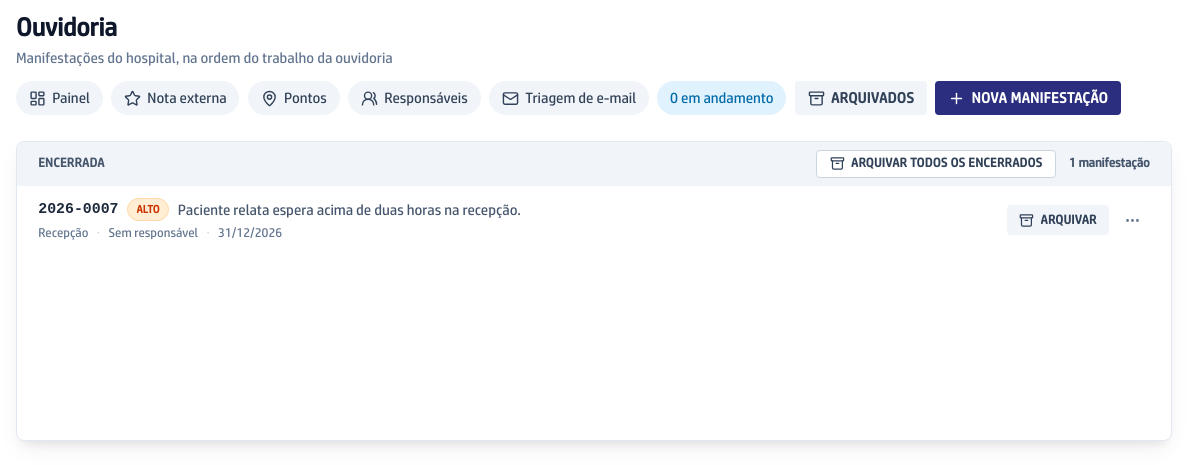
o filtro Arquivados nasce desligado (ADR 0047, decisão 4) › desligar o filtro volta para a lista de trabalho
expect the text "2026-0007" is shown: met, box [38, 199, 119, 220]
Click the button "Arquivados": (861, 98) [795, 81, 927, 115]
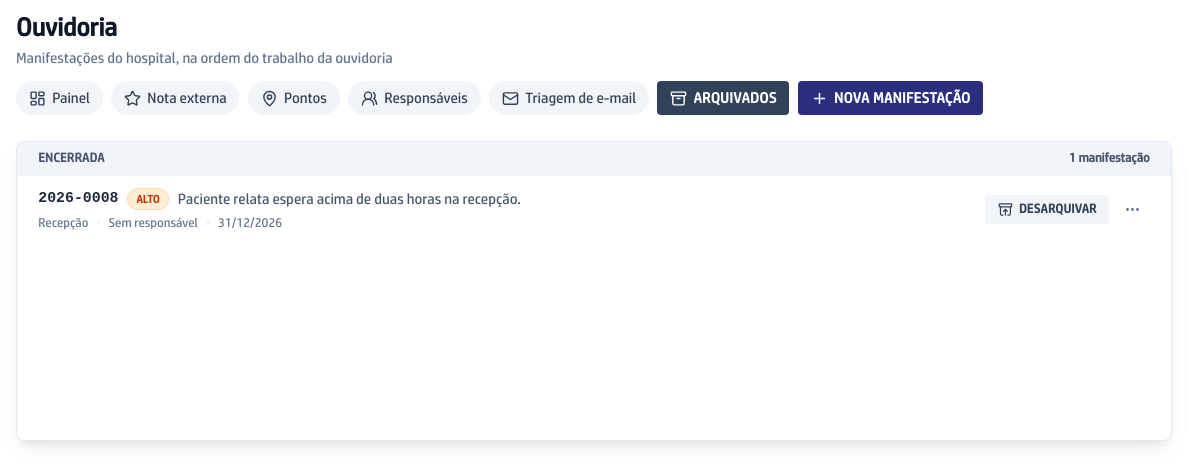
expect the text "2026-0008" is shown: met, box [38, 188, 119, 210]
Click the button "Arquivados": (723, 98) [657, 81, 790, 115]
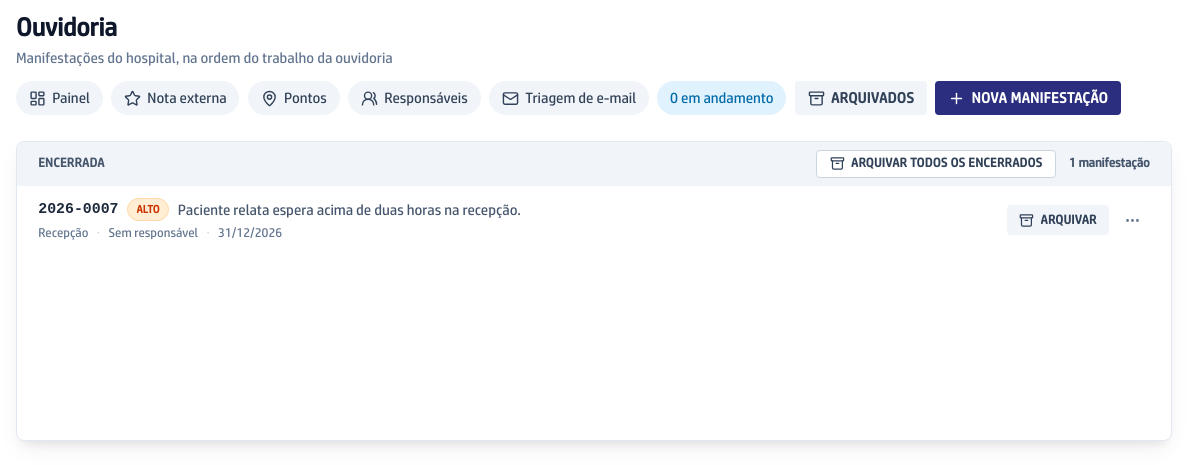
expect the text "2026-0007" is shown: met, box [38, 199, 119, 220]
expect the text "2026-0008" is gone: met
